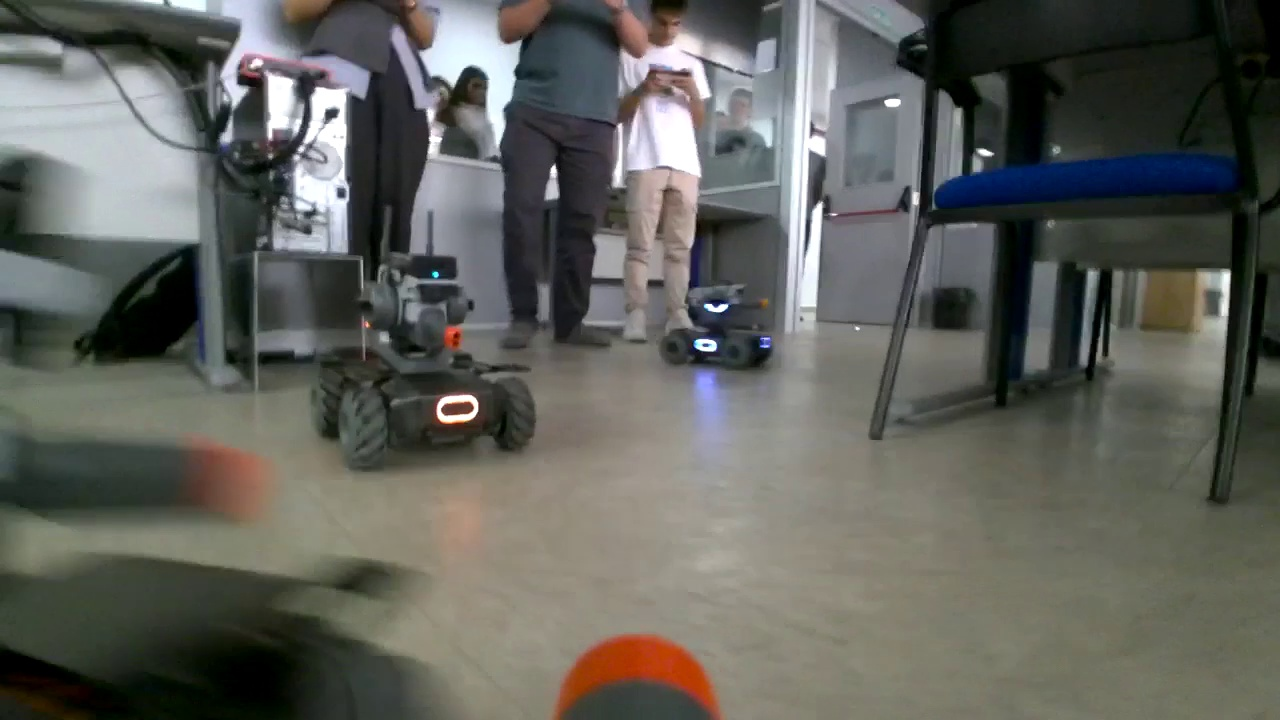robot: (316, 204, 536, 452), (662, 277, 776, 367)
